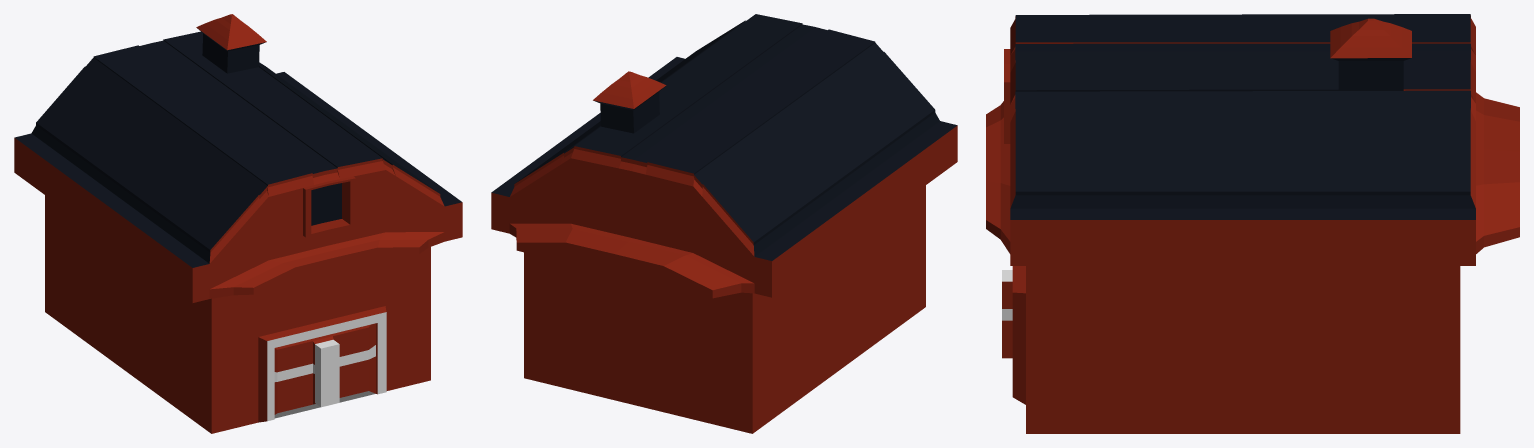
Rendered from barn 1.fbx.
The picture shows the model from 3 angles, left to right: view 1: azimuth 30°, elevation 25°; view 2: azimuth 150°, elevation 25°; view 3: azimuth 270°, elevation 25°; orthographic projection. The views are drawn at different scales.
Parts seen in each view (by area): view 1: Cube; view 2: Cube; view 3: Cube.
Part boxes in pixels (x1,y1,x2,y2): Cube: (14, 14, 462, 433); Cube: (491, 14, 957, 433); Cube: (986, 14, 1519, 433).
Bounding box in the file's own units: 740 × 747 × 971.
